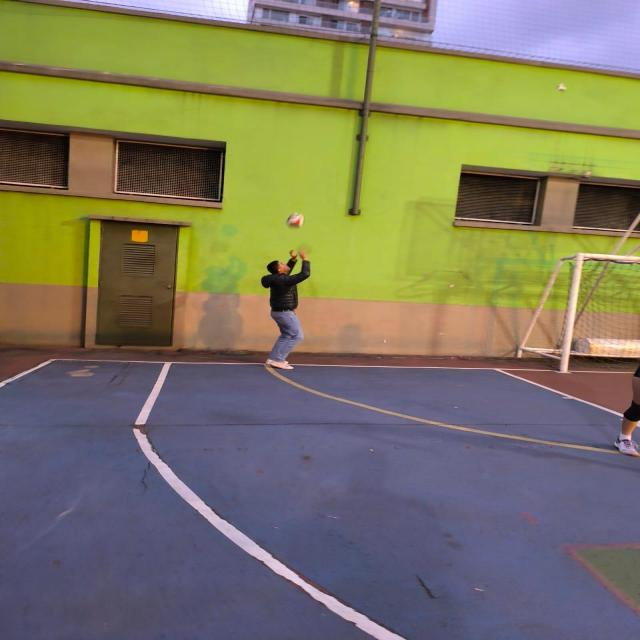volleyball: (287, 213, 304, 229)
